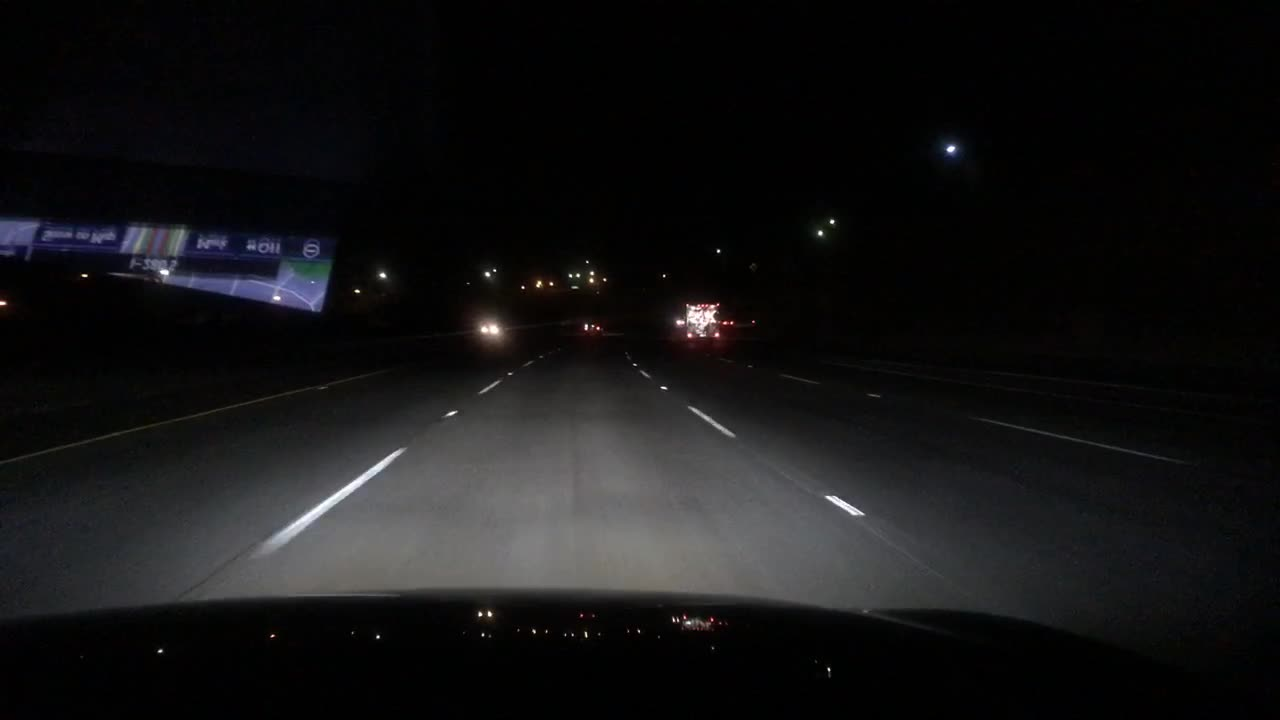car: (722, 312, 762, 334), (475, 319, 506, 343), (579, 317, 604, 339), (672, 311, 691, 337)
truck: (684, 302, 722, 350)
